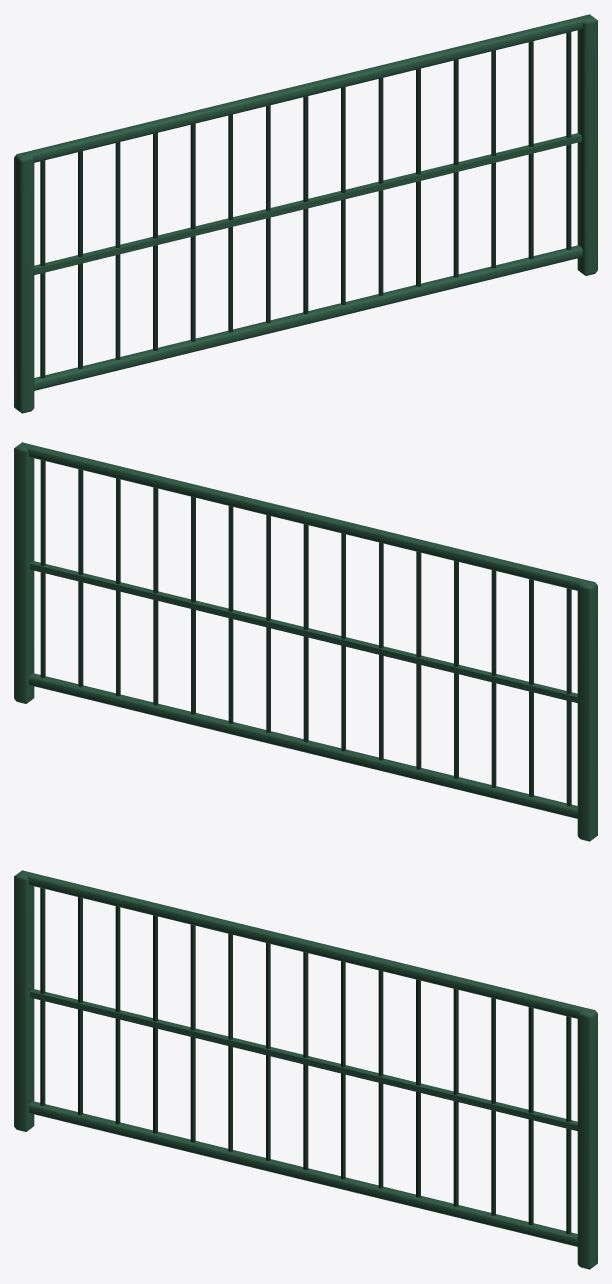
File: dog_park_fence.glb
3 renders of one model, top to bottom at view 1: azimuth 30°, elevation 25°; view 2: azimuth 150°, elevation 25°; view 3: azimuth 330°, elevation 25°, orthographic.
Visible parts, largest first — view 1: dog_park_fence; view 2: dog_park_fence; view 3: dog_park_fence.
Part boxes in pixels (x1,y1,x2,y2): dog_park_fence: (14, 14, 597, 413); dog_park_fence: (14, 442, 597, 841); dog_park_fence: (14, 870, 597, 1269).
Bounding box in the file's own units: 3.08 × 1.3 × 0.08.
